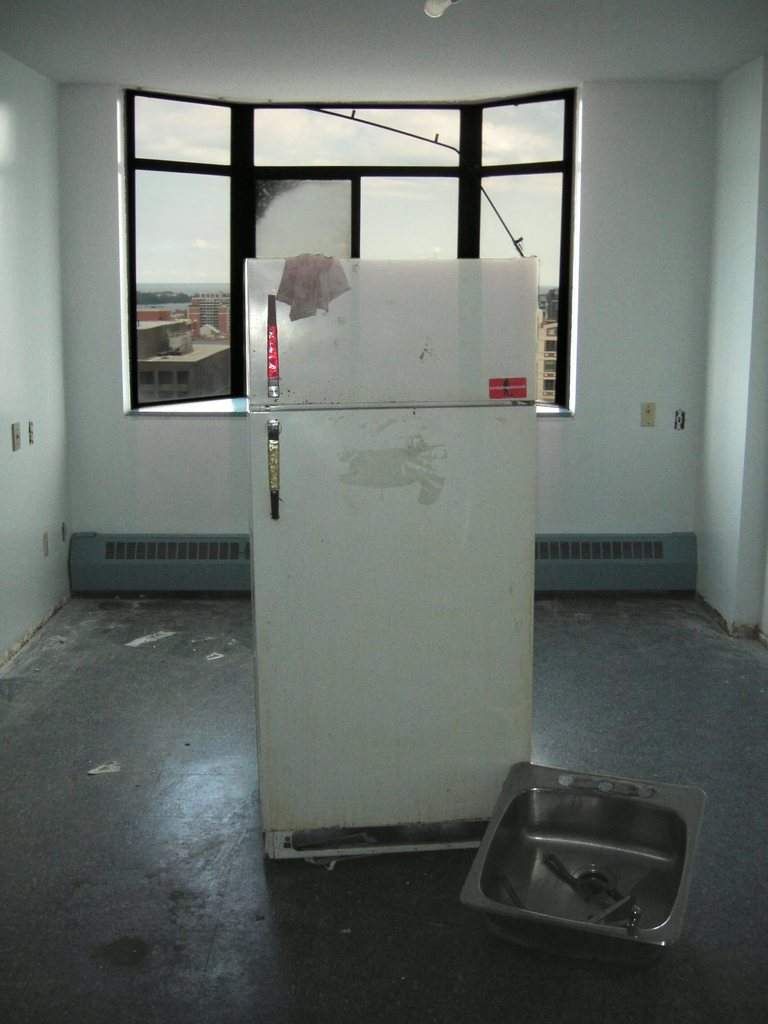handle: (262, 414, 281, 538), (263, 290, 282, 391)
refrigerator door: (253, 412, 529, 846), (251, 260, 534, 405)
